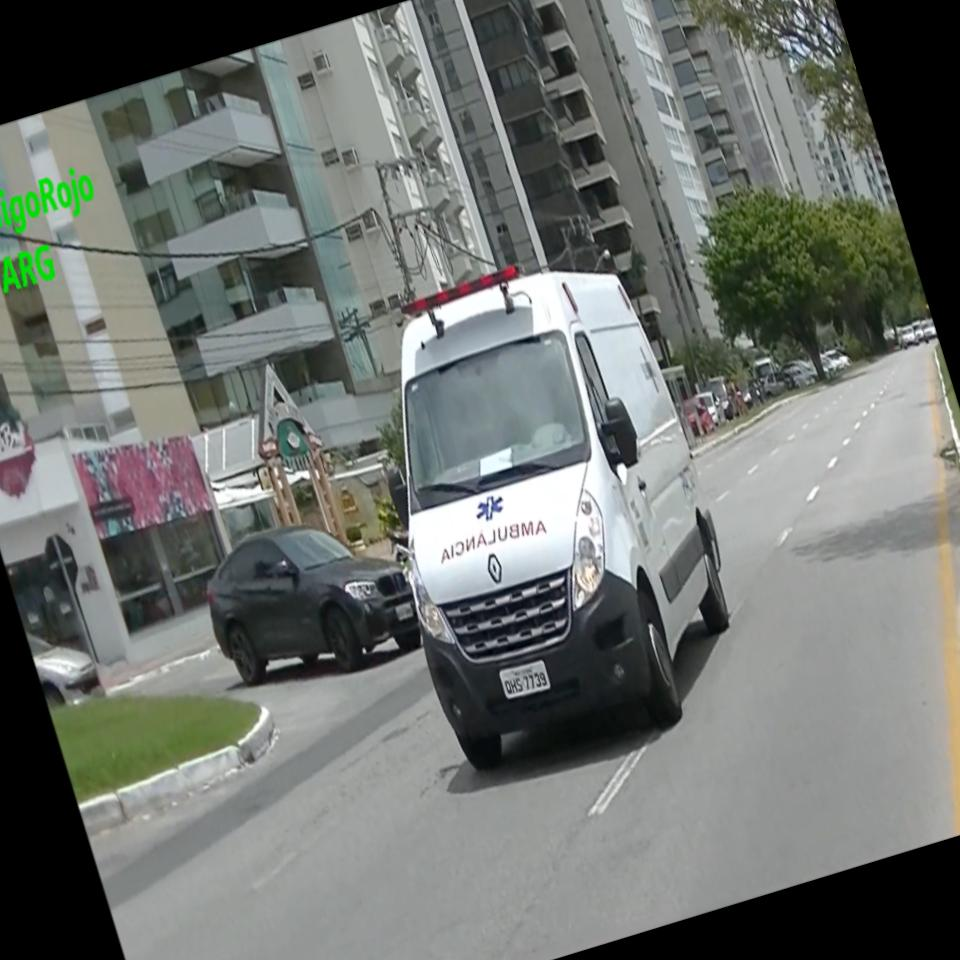bombeiro: (318, 225, 772, 798)
